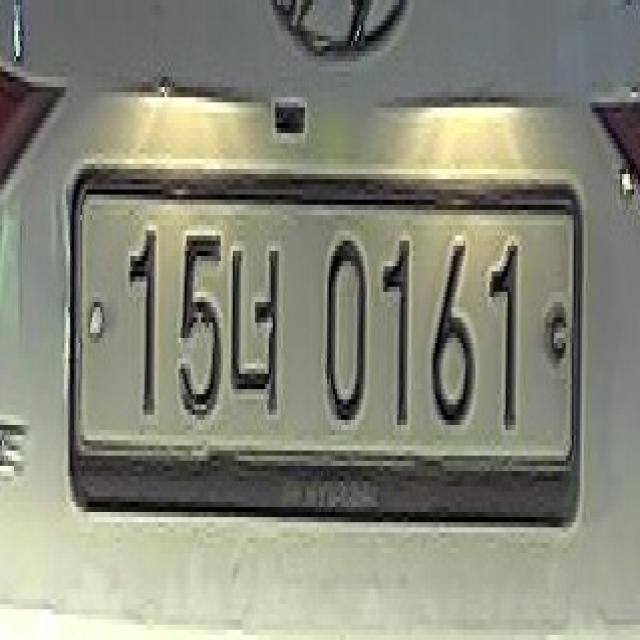0: (319, 215, 373, 440)
1: (378, 205, 428, 440), (486, 210, 532, 450), (120, 210, 168, 435)
5: (174, 210, 227, 435)
6: (428, 215, 483, 445)
license_plate: (62, 138, 586, 543)
neo: (225, 215, 285, 430)
